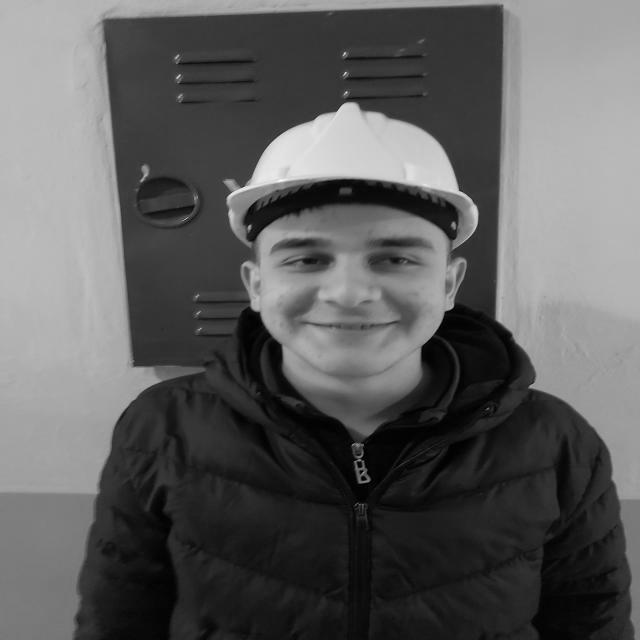construction helmet: (226, 107, 480, 252)
